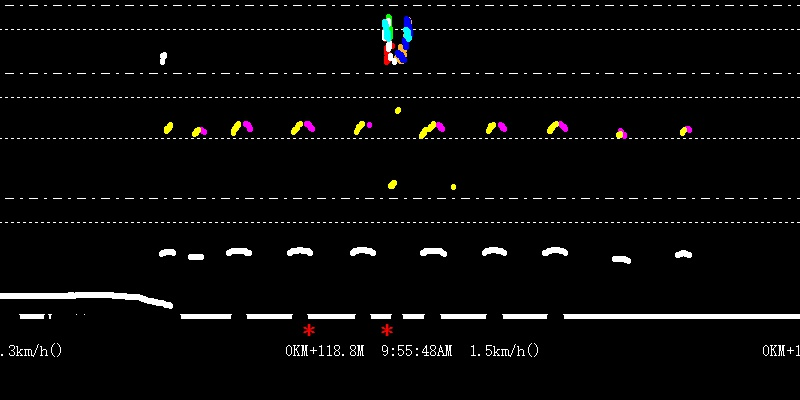J: (374, 4, 416, 66)
star: (377, 321, 397, 340), (300, 323, 317, 338)
y_p: (220, 114, 580, 265)
